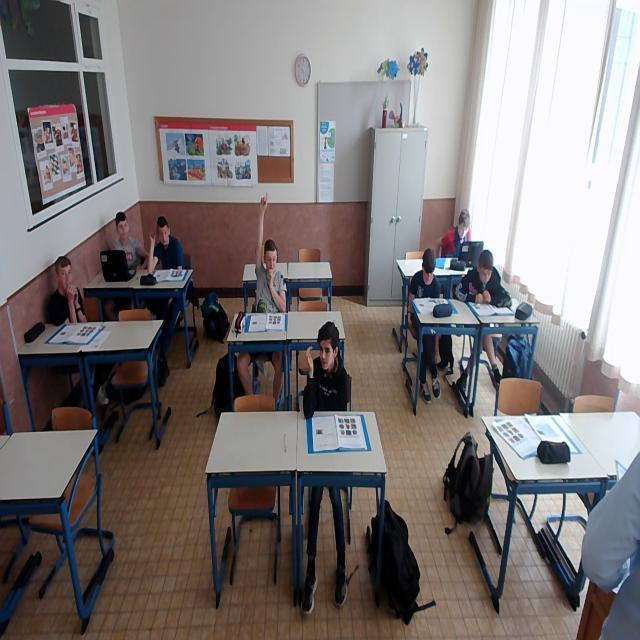Looking forward: (57, 266, 74, 292), (117, 220, 129, 240), (158, 228, 170, 246)
Raising hand: (303, 322, 352, 419), (254, 190, 288, 315)
Reading-writing: (456, 252, 514, 316), (407, 248, 453, 316)
